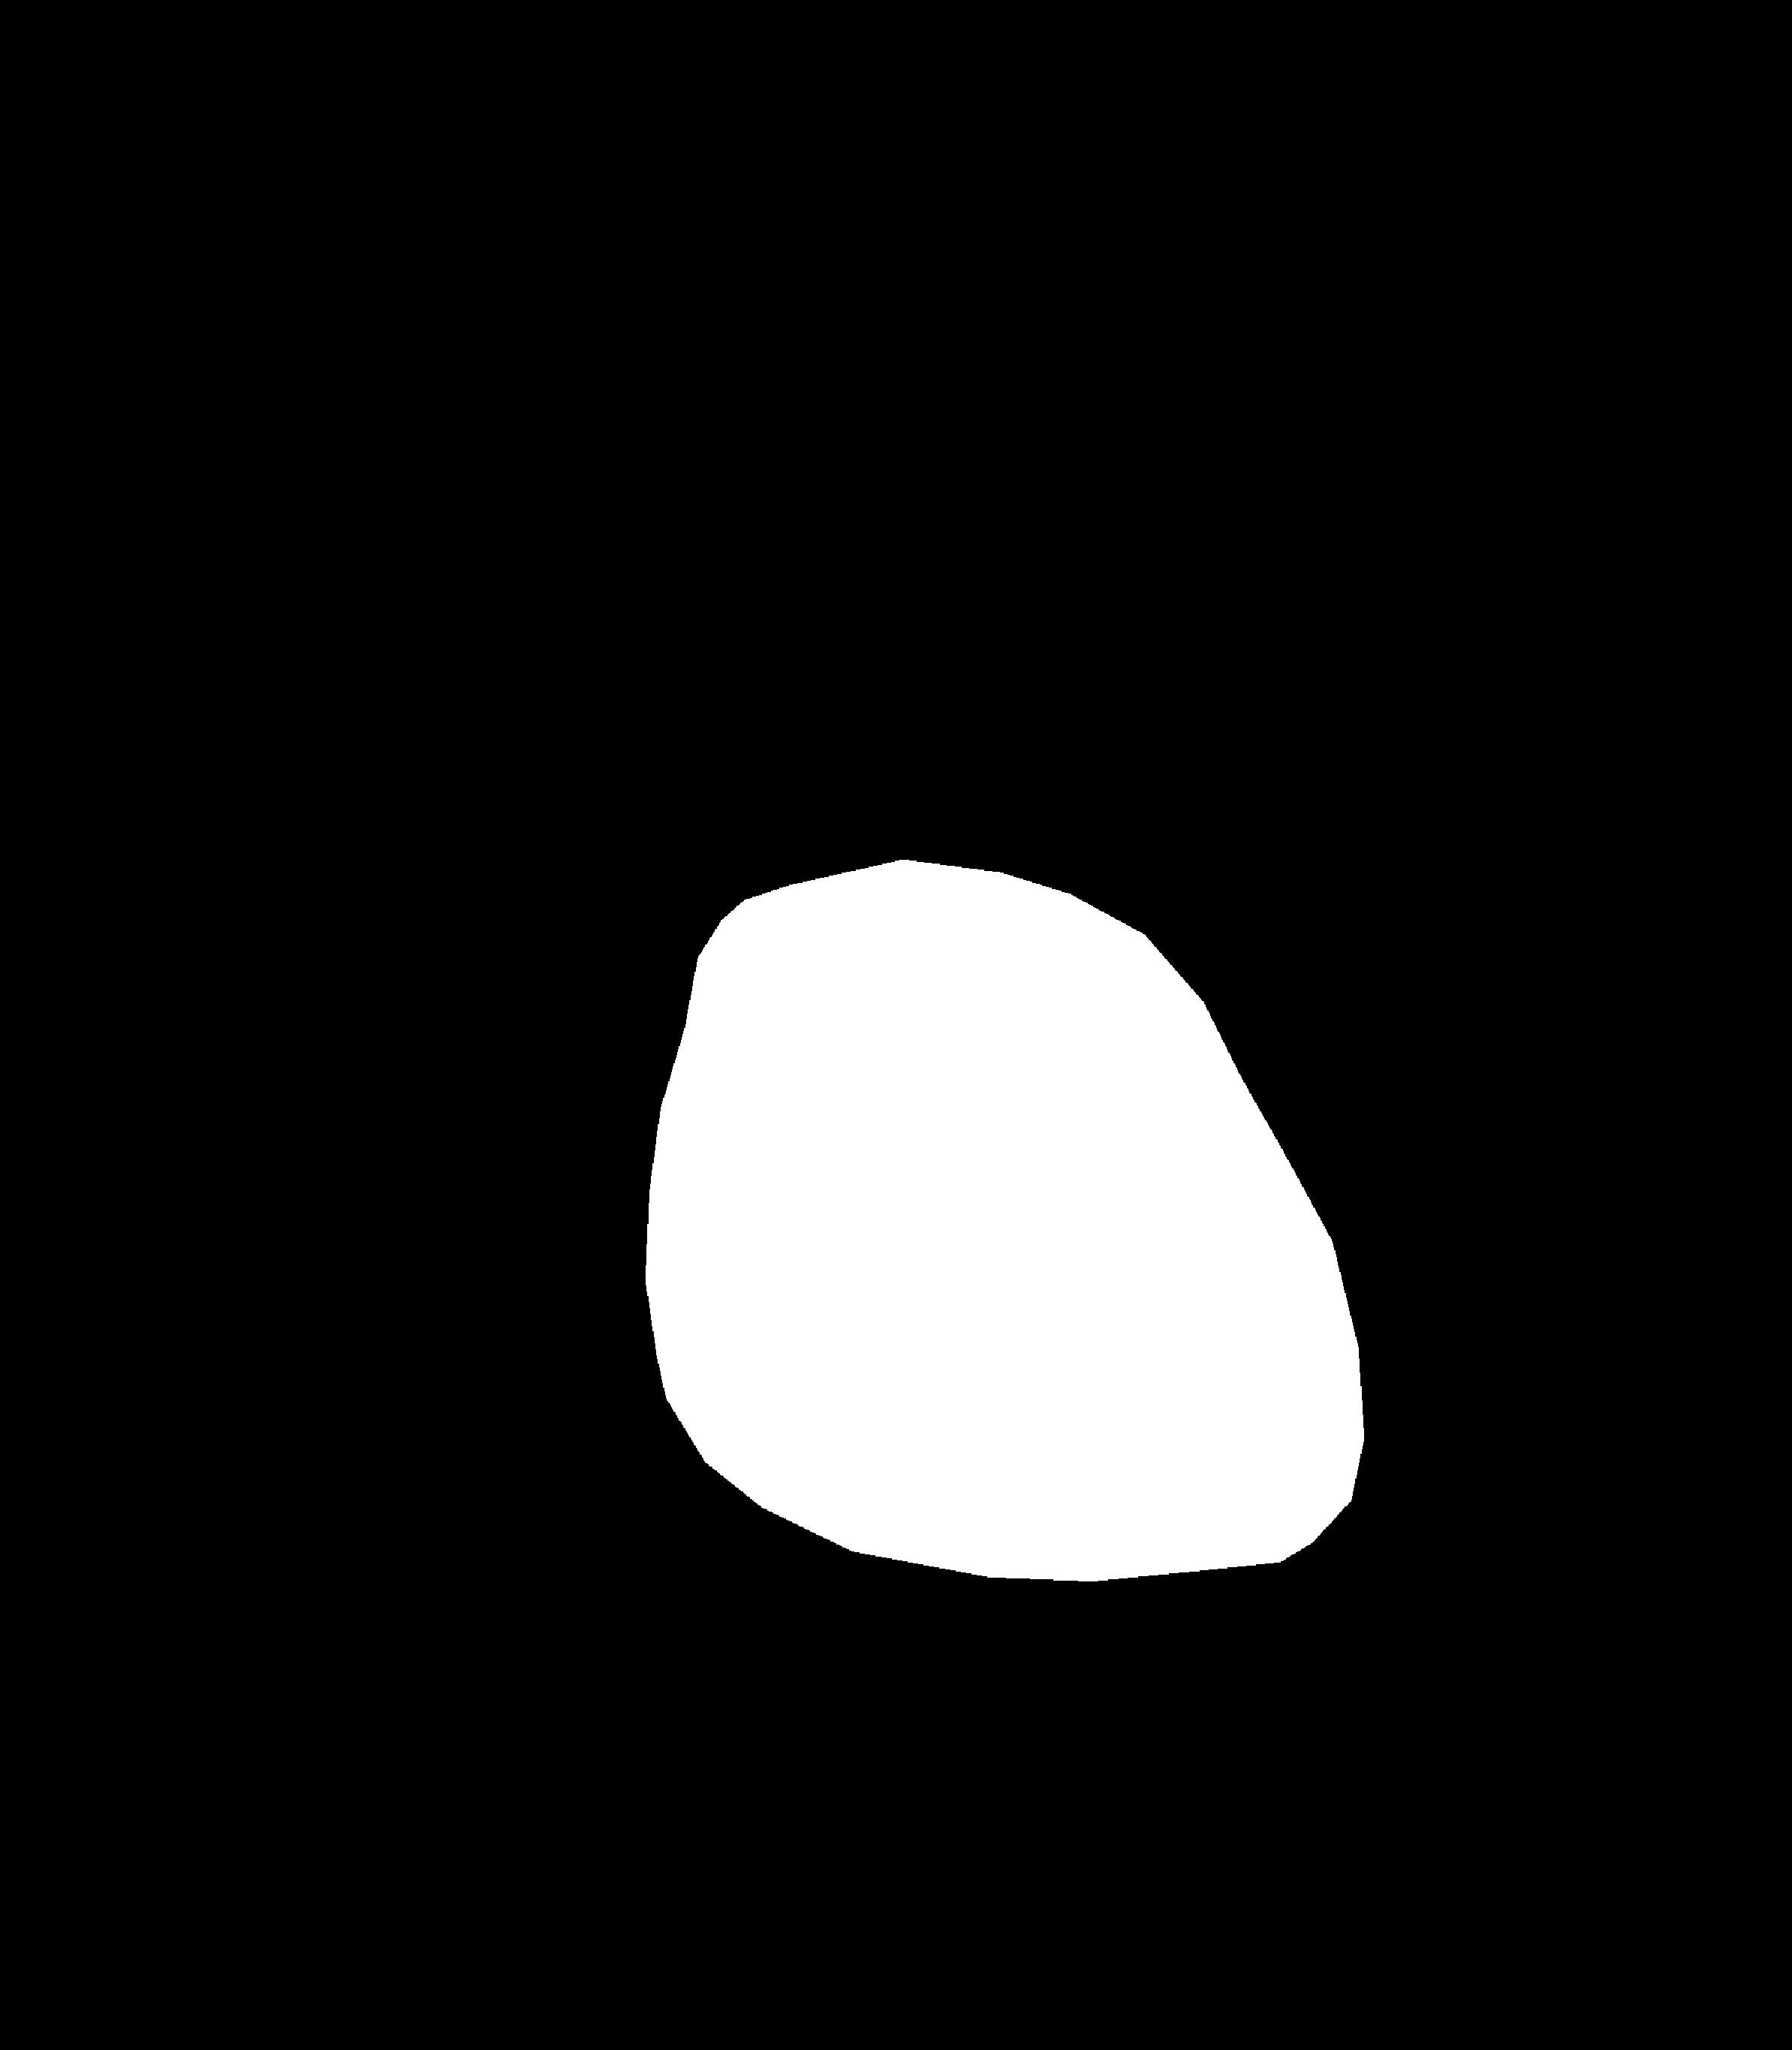heart: (645, 966, 1361, 1560)
left_lung: (209, 324, 772, 1684)
right_lung: (948, 291, 1569, 1736)
